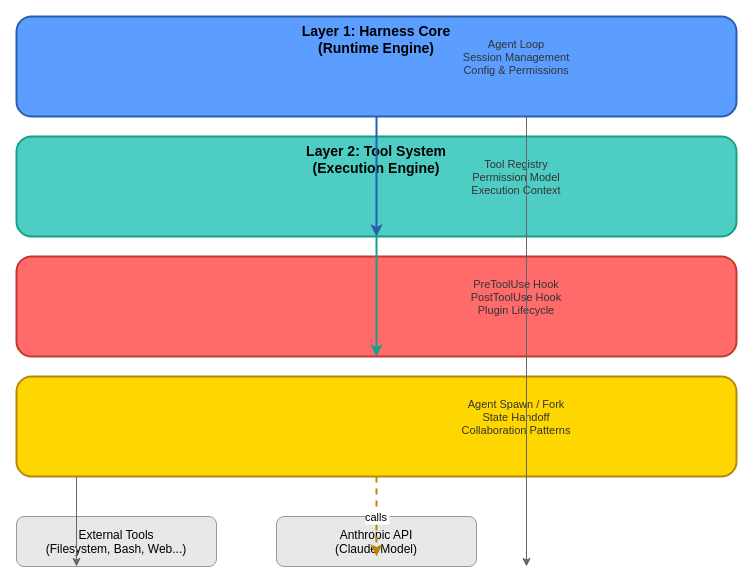
Some shapes in this 753 by 583 pixel diagram are drawn without their labels. Here are the shapes that lost their labels. From the top down, the box of each, then its label:
(15, 255, 737, 357): Layer 3: Plugin & Hooks (Extensibility System)
(15, 375, 737, 477): Layer 4: Multi-Agent System (Multi-Agent Orchestration)
